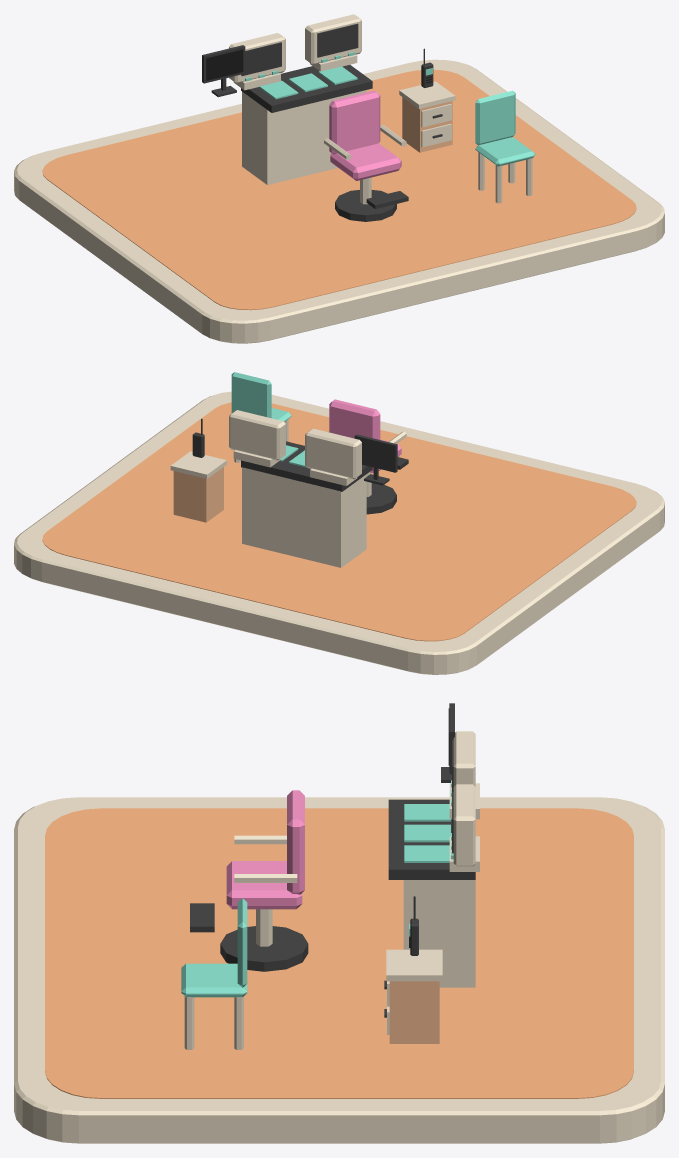
The picture shows the model from 3 angles, top to bottom: view 1: azimuth 30°, elevation 25°; view 2: azimuth 150°, elevation 25°; view 3: azimuth 270°, elevation 25°; orthographic projection. The views are drawn at different scales.
Parts seen in each view (by area): view 1: COM-02 Floor Surface, COM-01 Rounded Base Direct, Console, Back, Panel, Backrest, Seat, Frame, Housing.001, Body, Base, Seat.001 (+6 smaller); view 2: COM-02 Floor Surface, COM-01 Rounded Base Direct, Console, Housing.001, Housing, Body, Back, Backrest, Panel, Frame, Top, Base; view 3: COM-02 Floor Surface, COM-01 Rounded Base Direct, Console, Body, Panel, Base, Seat, Seat.001, Housing.001, Top, Back, Housing (+5 smaller).
Part boxes in pixels (left/top/right/bottom): COM-02 Floor Surface: left=42, top=69, right=636, bottom=310; COM-01 Rounded Base Direct: left=14, top=59, right=664, bottom=343; Console: left=242, top=90, right=366, bottom=184; Back: left=329, top=90, right=380, bottom=154; Panel: left=241, top=65, right=372, bottom=112; Backrest: left=475, top=90, right=515, bottom=145; Seat: left=330, top=143, right=401, bottom=180; Frame: left=202, top=45, right=245, bottom=97; Housing.001: left=305, top=14, right=361, bottom=64; Body: left=402, top=97, right=452, bottom=152; Base: left=335, top=190, right=396, bottom=221; Seat.001: left=475, top=137, right=535, bottom=166; COM-02 Floor Surface: left=42, top=402, right=636, bottom=641; COM-01 Rounded Base Direct: left=14, top=391, right=664, bottom=674; Console: left=242, top=467, right=366, bottom=567; Housing.001: left=229, top=410, right=285, bottom=460; Housing: left=305, top=428, right=361, bottom=479; Body: left=173, top=467, right=223, bottom=522; Back: left=329, top=399, right=380, bottom=439; Backrest: left=231, top=372, right=271, bottom=418; Panel: left=241, top=441, right=372, bottom=491; Frame: left=354, top=434, right=397, bottom=485; Top: left=170, top=451, right=226, bottom=478; Base: left=366, top=483, right=396, bottom=514; COM-02 Floor Surface: left=45, top=808, right=633, bottom=1098; COM-01 Rounded Base Direct: left=14, top=797, right=664, bottom=1143; Console: left=403, top=880, right=475, bottom=987; Body: left=389, top=981, right=439, bottom=1043; Panel: left=388, top=799, right=475, bottom=879; Base: left=220, top=926, right=308, bottom=971; Seat: left=226, top=861, right=302, bottom=909; Seat.001: left=181, top=963, right=247, bottom=997; Housing.001: left=453, top=784, right=475, bottom=866; Top: left=386, top=949, right=442, bottom=981; Back: left=287, top=790, right=304, bottom=894; Housing: left=453, top=731, right=475, bottom=786.
Bounding box in the file's own units: 6 × 1.91 × 5.2.
1 material, 1 textured.
